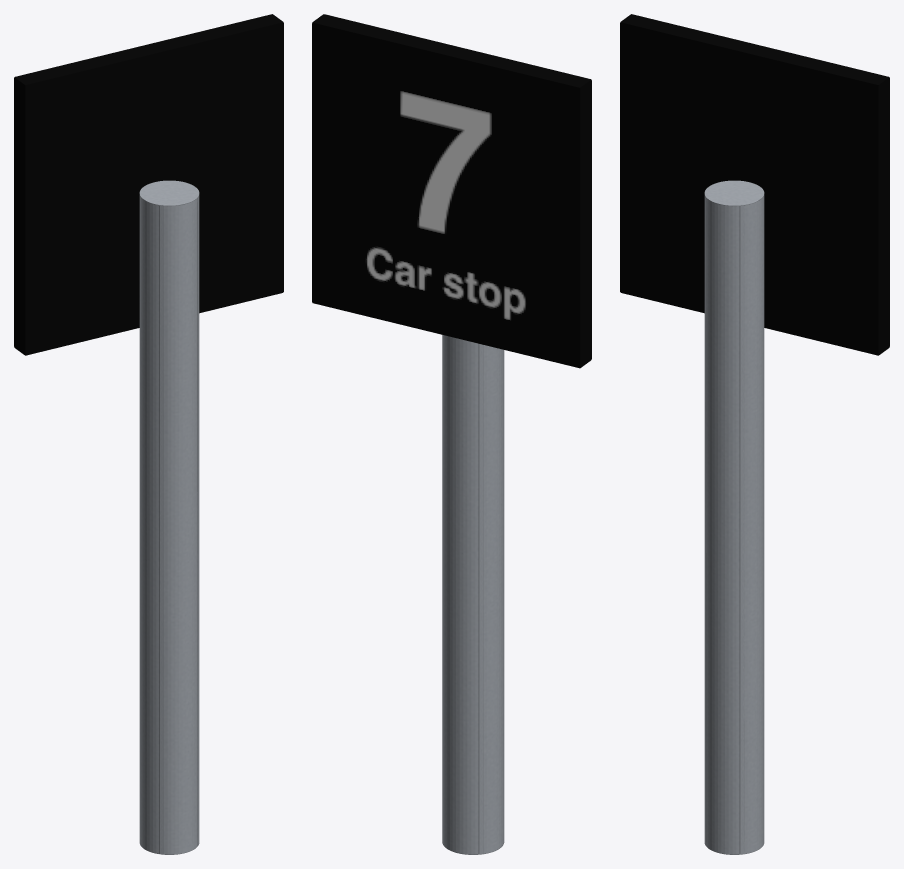
File: 7mark.obj
The picture shows the model from 3 angles, left to right: view 1: azimuth 30°, elevation 25°; view 2: azimuth 150°, elevation 25°; view 3: azimuth 330°, elevation 25°; orthographic projection. The views are drawn at different scales.
Visible parts, largest first — view 1: cube, cylinder; view 2: cube, cylinder; view 3: cube, cylinder.
Part boxes in pixels (<box>): cube: <box>14,14,283,355</box>; cylinder: <box>139,180,199,854</box>; cube: <box>312,14,591,368</box>; cylinder: <box>442,335,504,854</box>; cube: <box>620,14,889,355</box>; cylinder: <box>704,180,764,854</box>.
Size of the model in its own units: 0.625 by 1.8 by 0.1719.
Materials: 1 (1 with a texture image).
